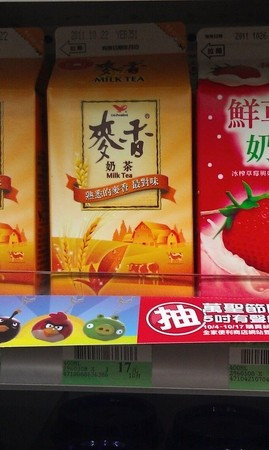milk tea: (50, 89, 196, 289)
